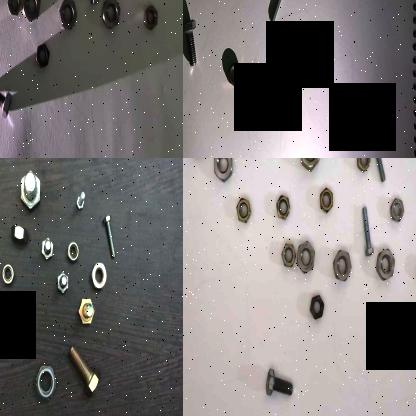Bolts: (64, 344, 102, 404), (18, 172, 48, 216), (183, 15, 206, 70), (264, 365, 296, 404), (102, 214, 122, 262), (359, 206, 375, 260), (266, 0, 290, 32), (78, 294, 96, 330), (0, 80, 13, 124), (55, 268, 71, 298), (40, 234, 55, 262), (369, 158, 387, 181), (75, 186, 87, 216), (87, 0, 100, 15)
NUTS: (277, 66, 301, 114), (34, 360, 58, 408), (331, 248, 353, 284), (296, 236, 316, 274), (9, 314, 28, 352), (376, 248, 398, 280), (90, 258, 110, 292), (222, 60, 244, 90), (101, 0, 121, 32), (210, 158, 235, 182), (58, 0, 77, 30), (275, 192, 292, 224), (386, 197, 406, 224), (10, 224, 30, 250), (34, 42, 52, 70), (308, 294, 326, 322), (235, 197, 252, 226), (280, 238, 295, 270), (0, 259, 16, 288), (142, 5, 159, 32), (318, 186, 334, 214), (66, 239, 80, 266), (297, 158, 324, 172), (22, 0, 40, 20), (8, 0, 22, 23), (355, 158, 370, 175)
